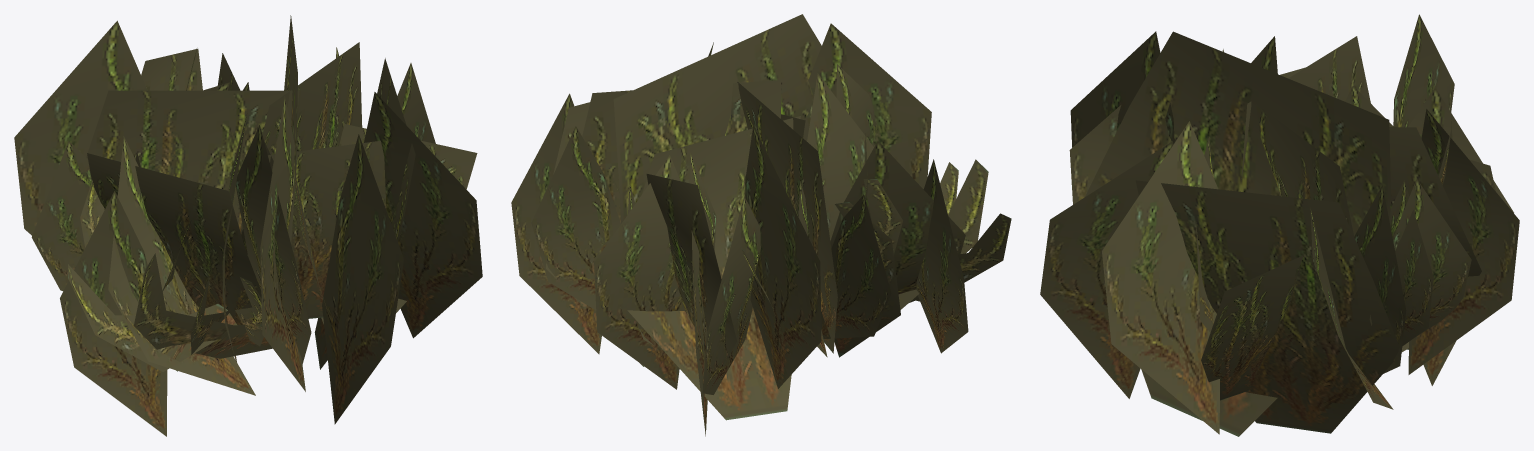
The model's file is CommonFoilage_DeasertBush.fbx.
The picture shows the model from 3 angles, left to right: view 1: azimuth 30°, elevation 25°; view 2: azimuth 150°, elevation 25°; view 3: azimuth 270°, elevation 25°; orthographic projection. The views are drawn at different scales.
Parts seen in each view (by area): view 1: LV_Common_Foliage_A_DesertBush01_PM_LBR; view 2: LV_Common_Foliage_A_DesertBush01_PM_LBR; view 3: LV_Common_Foliage_A_DesertBush01_PM_LBR.
Part boxes in pixels (x1,y1,x2,y2): LV_Common_Foliage_A_DesertBush01_PM_LBR: [14, 15, 482, 436]; LV_Common_Foliage_A_DesertBush01_PM_LBR: [511, 14, 1011, 436]; LV_Common_Foliage_A_DesertBush01_PM_LBR: [1040, 14, 1519, 436].
Bounding box in the file's own units: 30.97 × 22.94 × 27.24.
